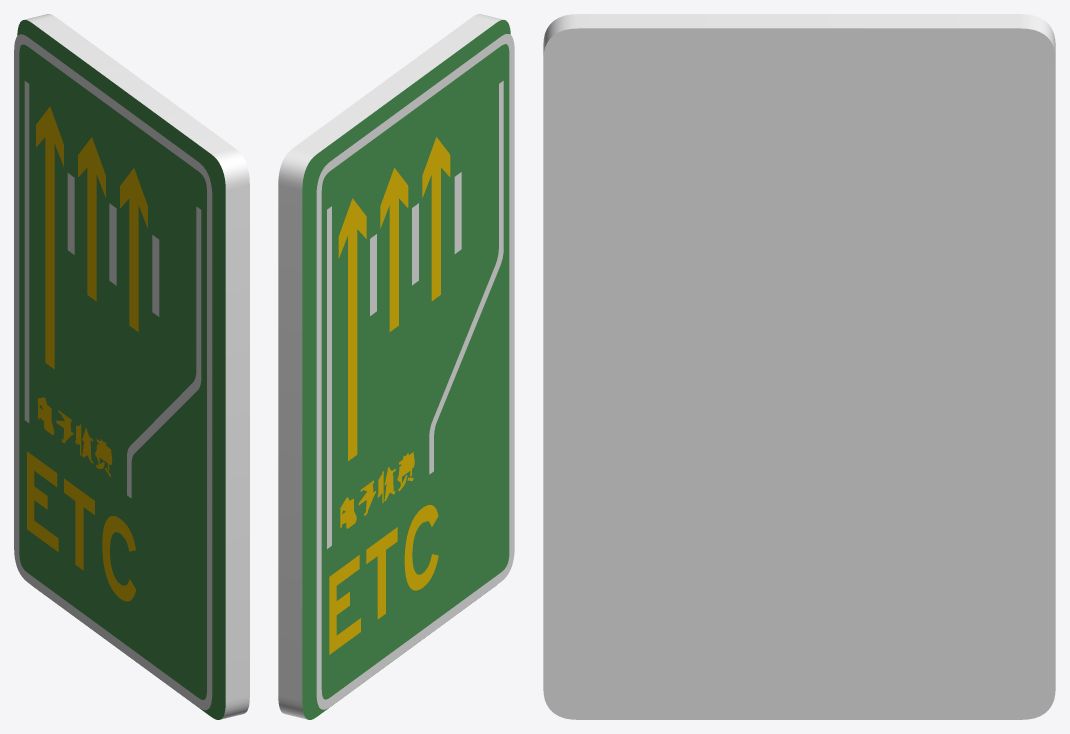
File: ETC_Lane_InnerSide.fbx
3 views of the same model, side by side, from view 1: azimuth 30°, elevation 25°; view 2: azimuth 150°, elevation 25°; view 3: azimuth 270°, elevation 25° (orthographic). The views are drawn at different scales.
Visible parts, largest first — view 1: ETC_Lane_InnerSide; view 2: ETC_Lane_InnerSide; view 3: ETC_Lane_InnerSide.
Part boxes in pixels (box(x1,y1,x2,y2)): ETC_Lane_InnerSide: box(14, 14, 249, 719); ETC_Lane_InnerSide: box(278, 14, 514, 719); ETC_Lane_InnerSide: box(543, 14, 1055, 719).
Bounding box in the file's own units: 0.0408 × 0.67 × 0.45.
